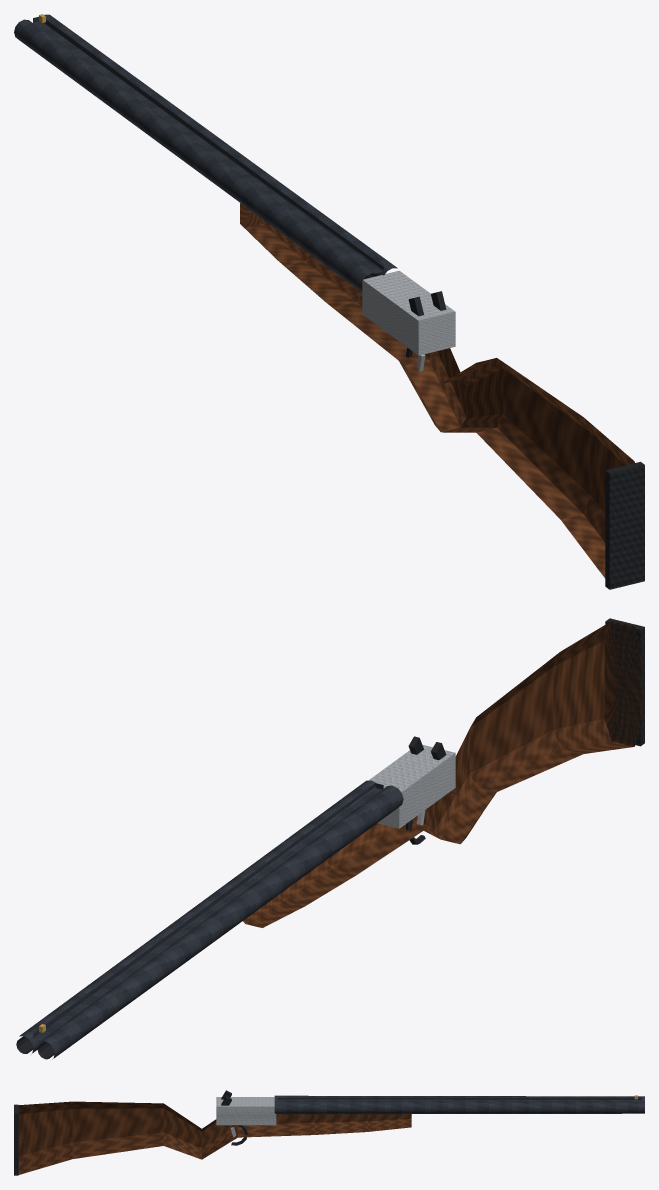
File: lovacka_dvocijevka.glb
The picture shows the model from 3 angles, top to bottom: view 1: azimuth 30°, elevation 25°; view 2: azimuth 150°, elevation 25°; view 3: azimuth 270°, elevation 25°; orthographic projection. The views are drawn at different scales.
Visible parts, largest first — view 1: WeaponMesh; view 2: WeaponMesh; view 3: WeaponMesh.
Part boxes in pixels (x1,y1,x2,y2): WeaponMesh: [14, 14, 644, 589]; WeaponMesh: [16, 618, 644, 1059]; WeaponMesh: [14, 1090, 644, 1175].
Bounding box in the file's own units: 0.046 × 0.1517 × 1.11.
5 materials, 5 textured.
